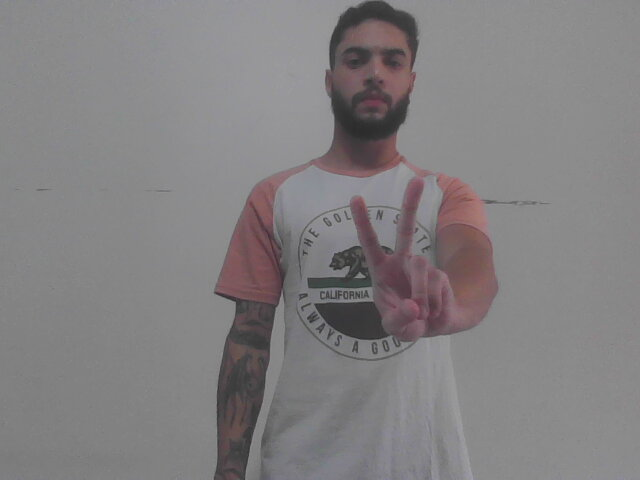v: (338, 171, 457, 348)
